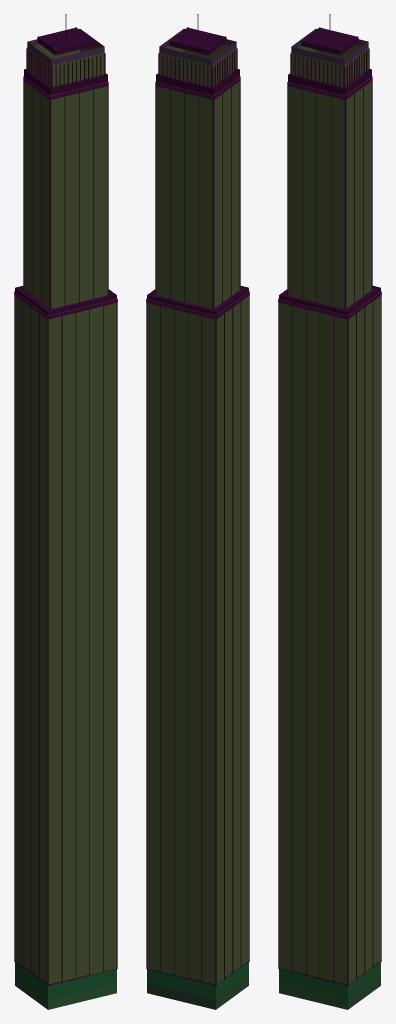
File: tower_m.glb
3 renders of one model, left to right at view 1: azimuth 30°, elevation 25°; view 2: azimuth 150°, elevation 25°; view 3: azimuth 330°, elevation 25°, orthographic.
Visible parts, largest first — view 1: tower_m; view 2: tower_m; view 3: tower_m.
Boxes of the visible parts, left/top/right/bottom form: tower_m: left=14, top=14, right=117, bottom=1009; tower_m: left=146, top=14, right=249, bottom=1009; tower_m: left=278, top=14, right=381, bottom=1009.
Bounding box in the file's own units: 36.82 × 486 × 30.82.
